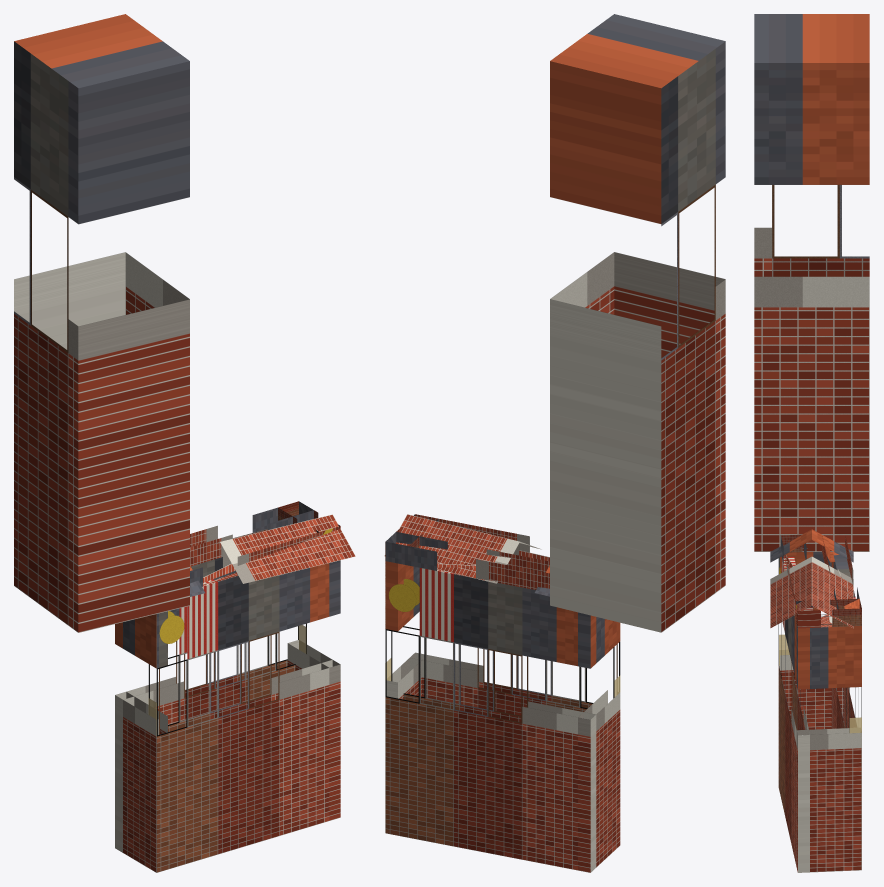
The picture shows the model from 3 angles, left to right: view 1: azimuth 30°, elevation 25°; view 2: azimuth 150°, elevation 25°; view 3: azimuth 270°, elevation 25°; orthographic projection. The views are drawn at different scales.
Visible parts, largest first — view 1: 238572342__chimney_0_xb, 238572342__wall_0_xb, 238572342__wall_3_xb, 238572342__wall_2_xb, 238572342_roof_-1_xb, 238572342__wall_1_xb, 238572342__cornice_2, 238572342__cornice_0; view 2: 238572342__chimney_0_xb, 238572342__wall_2_xb, 238572342__wall_3_xb, 238572342__wall_0_xb, 238572342__cornice_2, 238572342_roof_1_xb, 238572342__wall_1_xb, 238572342__cornice_0; view 3: 238572342__chimney_0_xb, 238572342__wall_1_xb, 238572342__wall_0_xb, 238572342_roof_-1_xb, 238572342__wall_3_xb, 238572342_roof_1_xb, 238572342__wall_2_xb, 238572342__cornice_1, 238572342__cornice_0, 238572342__cornice_2.
Boxes of the visible parts, <box> form: 238572342__chimney_0_xb: <box>14,14,189,632</box>; 238572342__wall_0_xb: <box>148,563,332,872</box>; 238572342__wall_3_xb: <box>123,611,167,872</box>; 238572342__wall_2_xb: <box>115,557,306,852</box>; 238572342_roof_-1_xb: <box>190,514,355,596</box>; 238572342__wall_1_xb: <box>287,560,340,820</box>; 238572342__cornice_2: <box>190,501,313,566</box>; 238572342__cornice_0: <box>190,526,340,586</box>; 238572342__chimney_0_xb: <box>550,14,725,632</box>; 238572342__wall_2_xb: <box>385,564,596,872</box>; 238572342__wall_3_xb: <box>578,612,620,872</box>; 238572342__wall_0_xb: <box>409,642,620,715</box>; 238572342__cornice_2: <box>385,532,549,589</box>; 238572342_roof_1_xb: <box>384,514,549,596</box>; 238572342__wall_1_xb: <box>385,561,427,832</box>; 238572342__cornice_0: <box>415,514,549,561</box>; 238572342__chimney_0_xb: <box>754,14,869,551</box>; 238572342__wall_1_xb: <box>796,624,861,872</box>; 238572342__wall_0_xb: <box>778,557,809,872</box>; 238572342_roof_-1_xb: <box>770,529,811,628</box>; 238572342__wall_3_xb: <box>778,552,843,729</box>; 238572342_roof_1_xb: <box>812,529,853,628</box>; 238572342__wall_2_xb: <box>831,552,861,733</box>; 238572342__cornice_1: <box>795,598,861,627</box>; 238572342__cornice_0: <box>780,535,820,628</box>; 238572342__cornice_2: <box>822,535,859,609</box>.
Size of the model in its own units: 0.3852 by 1.05 by 0.15.
Materials: 1 (1 with a texture image).
